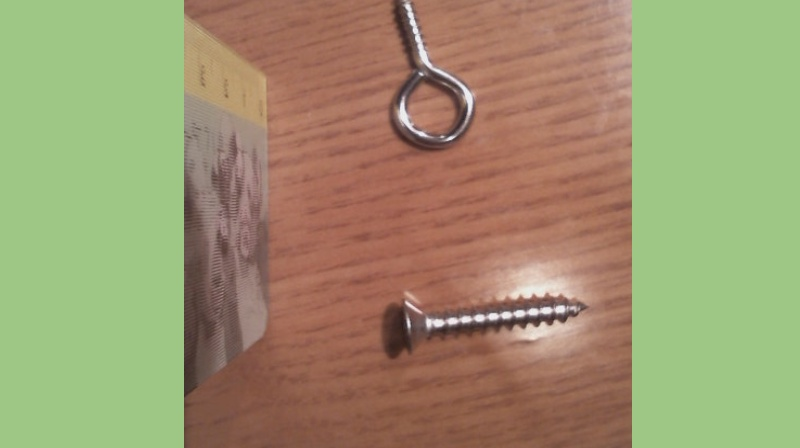O001: (382, 0, 479, 154)
S001: (385, 287, 587, 361)
